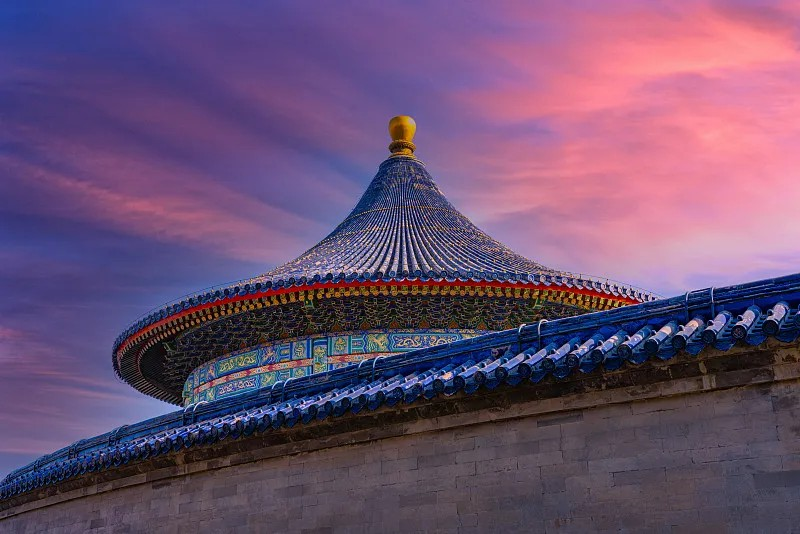Heaven: (110, 115, 663, 417)
